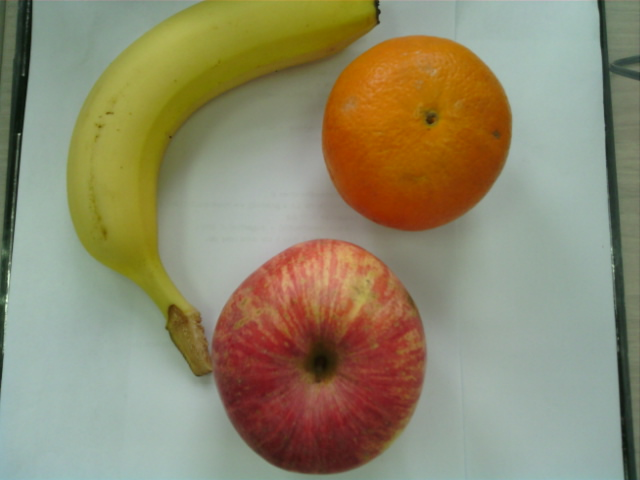normal_apple: (212, 239, 429, 474)
normal_banana: (67, 1, 379, 314)
normal_orange: (325, 36, 515, 235)
